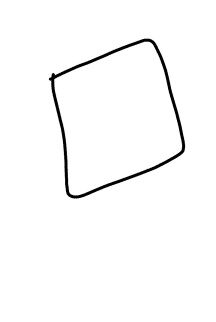Square: (46, 36, 186, 202)
